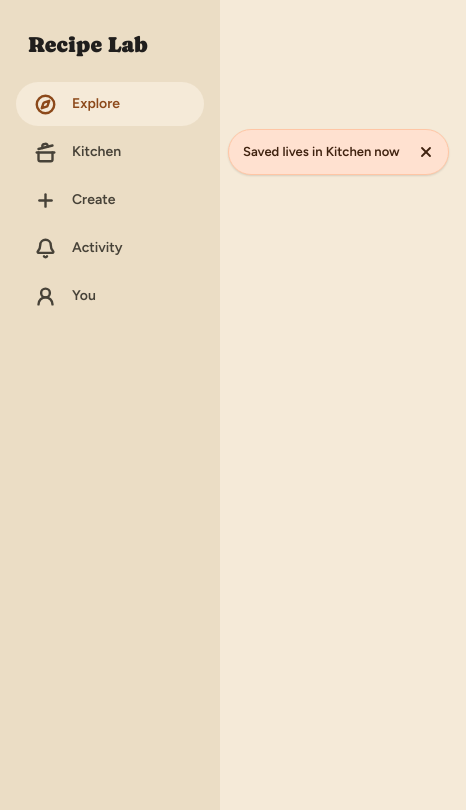
BottomNav › Saved lives in Kitchen tip (RL-215) › shows once for a returning user, closes, and never shows again
Check: the text "Saved lives in Kitchen now" is shown, box left=228, top=129, right=449, bottom=175
Click the button named "Close tip" at (426, 152), box left=404, top=130, right=448, bottom=174
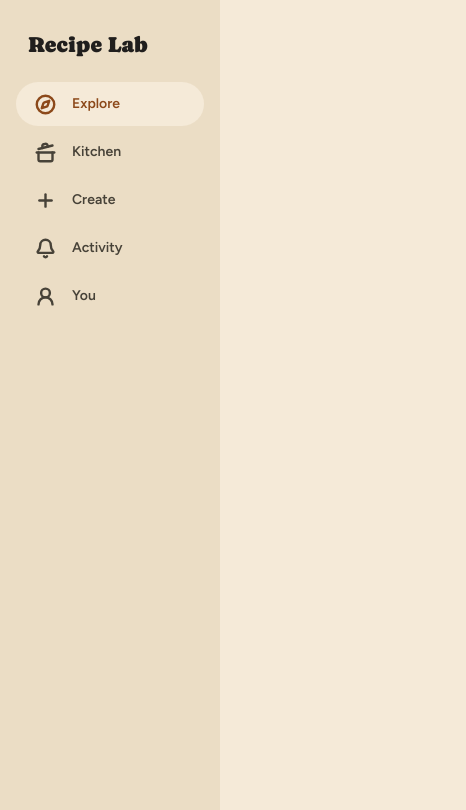
Check: the text "Saved lives in Kitchen now" is gone
